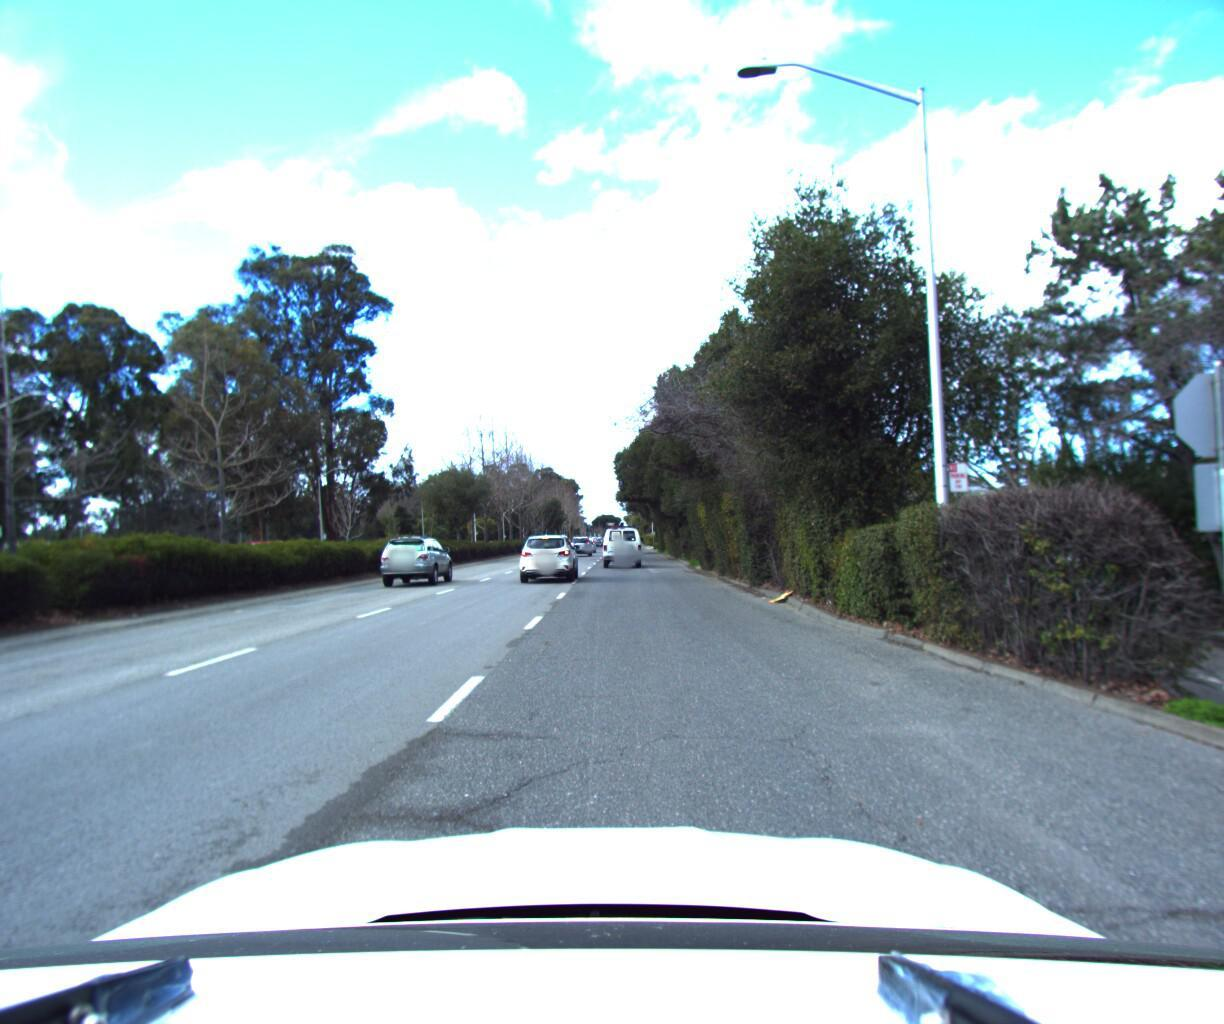car: (375, 537, 460, 594), (514, 532, 582, 589), (601, 522, 648, 573), (569, 537, 596, 560)
